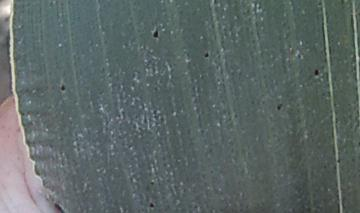tarspot: (272, 98, 288, 112), (149, 27, 163, 39), (310, 65, 322, 79), (56, 81, 68, 92), (147, 177, 157, 188), (147, 200, 157, 211), (201, 49, 211, 60)
